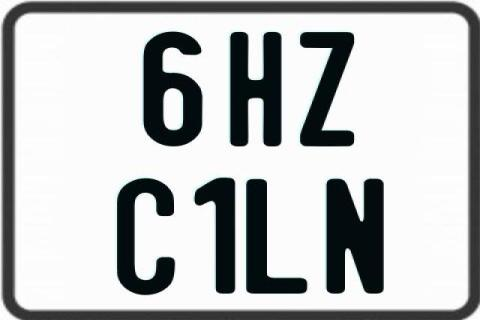0: (143, 32, 205, 150), (194, 177, 237, 295)
C: (116, 178, 177, 300)
H: (230, 31, 280, 151)
L: (243, 179, 304, 299)
N: (325, 177, 387, 292)
Z: (297, 31, 355, 148)
